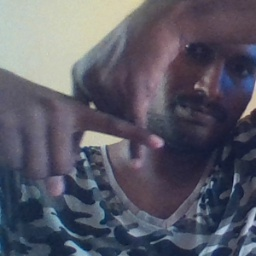H: (42, 58, 168, 175)
